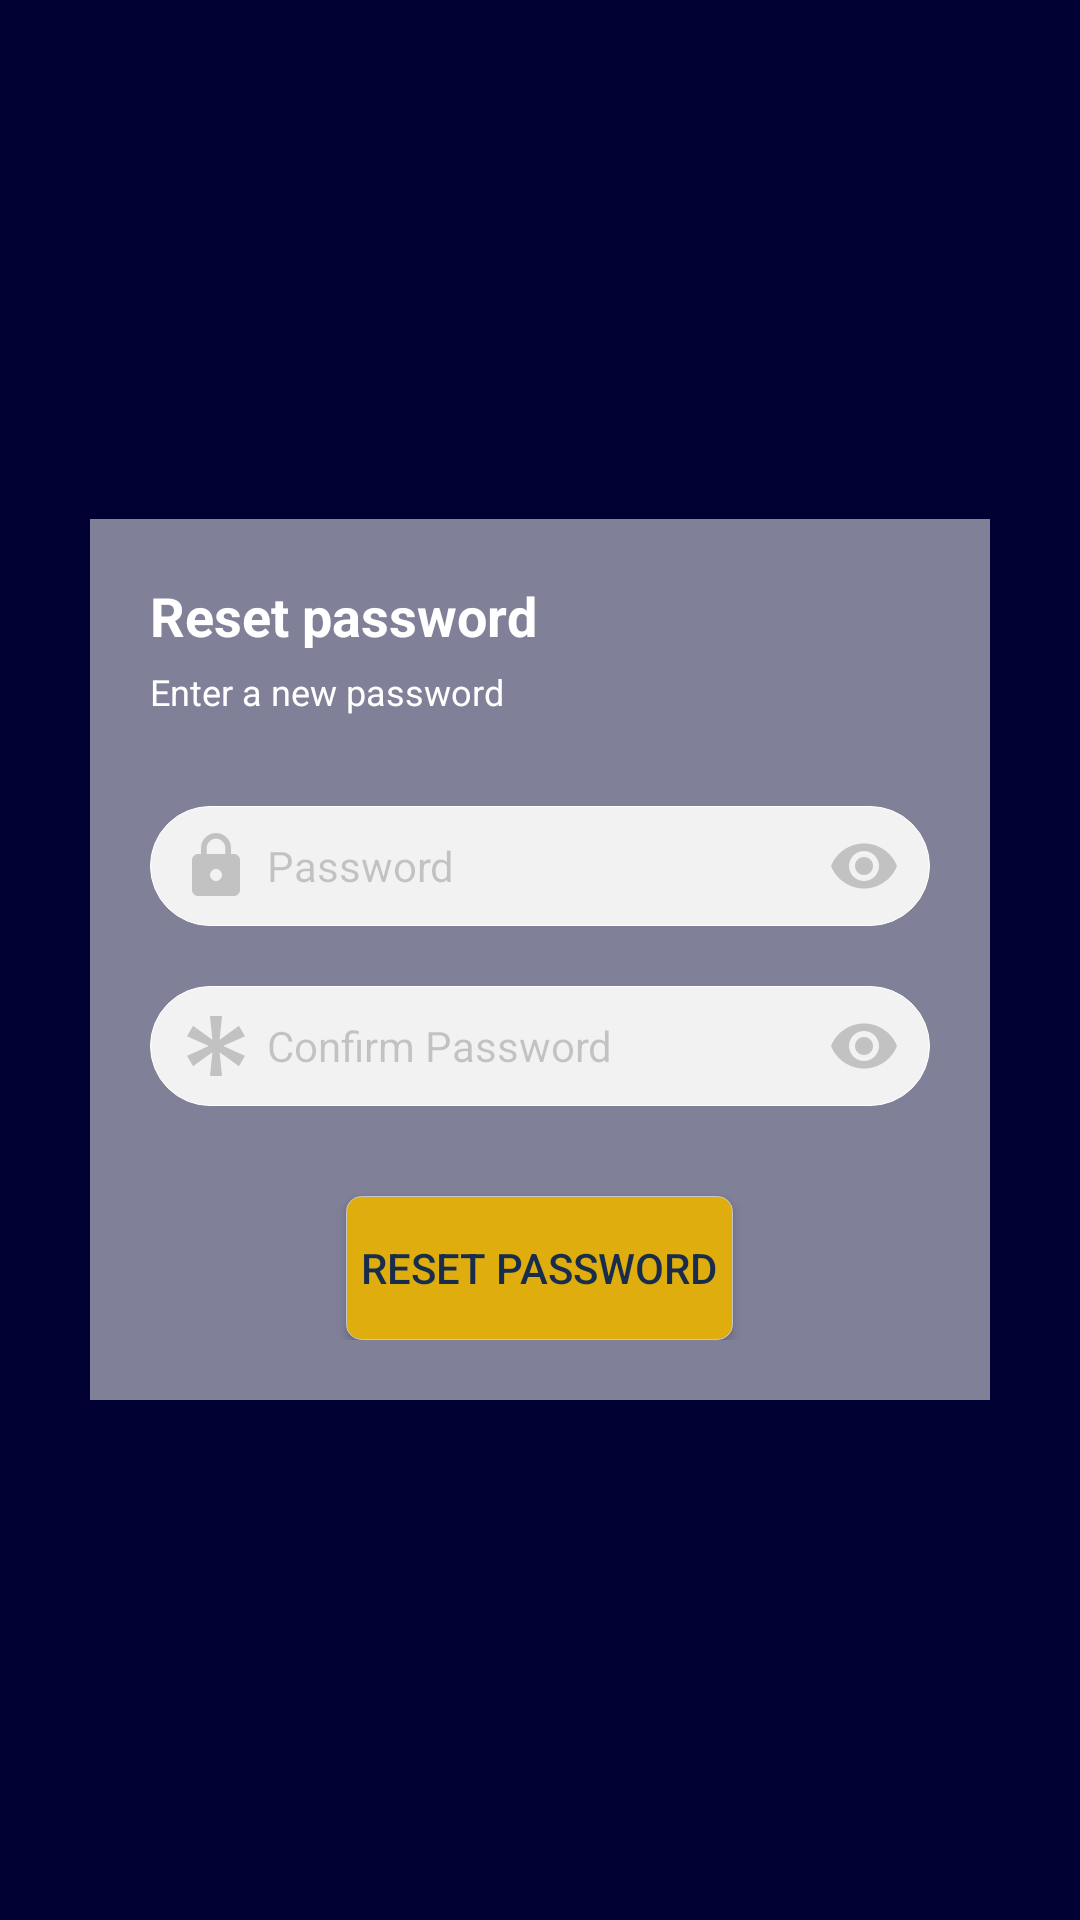

Where to tap for icons on this 1080 × 1920 app screen, as (x=x, y=y):
visibility: (x=864, y=866), (x=864, y=1046)
